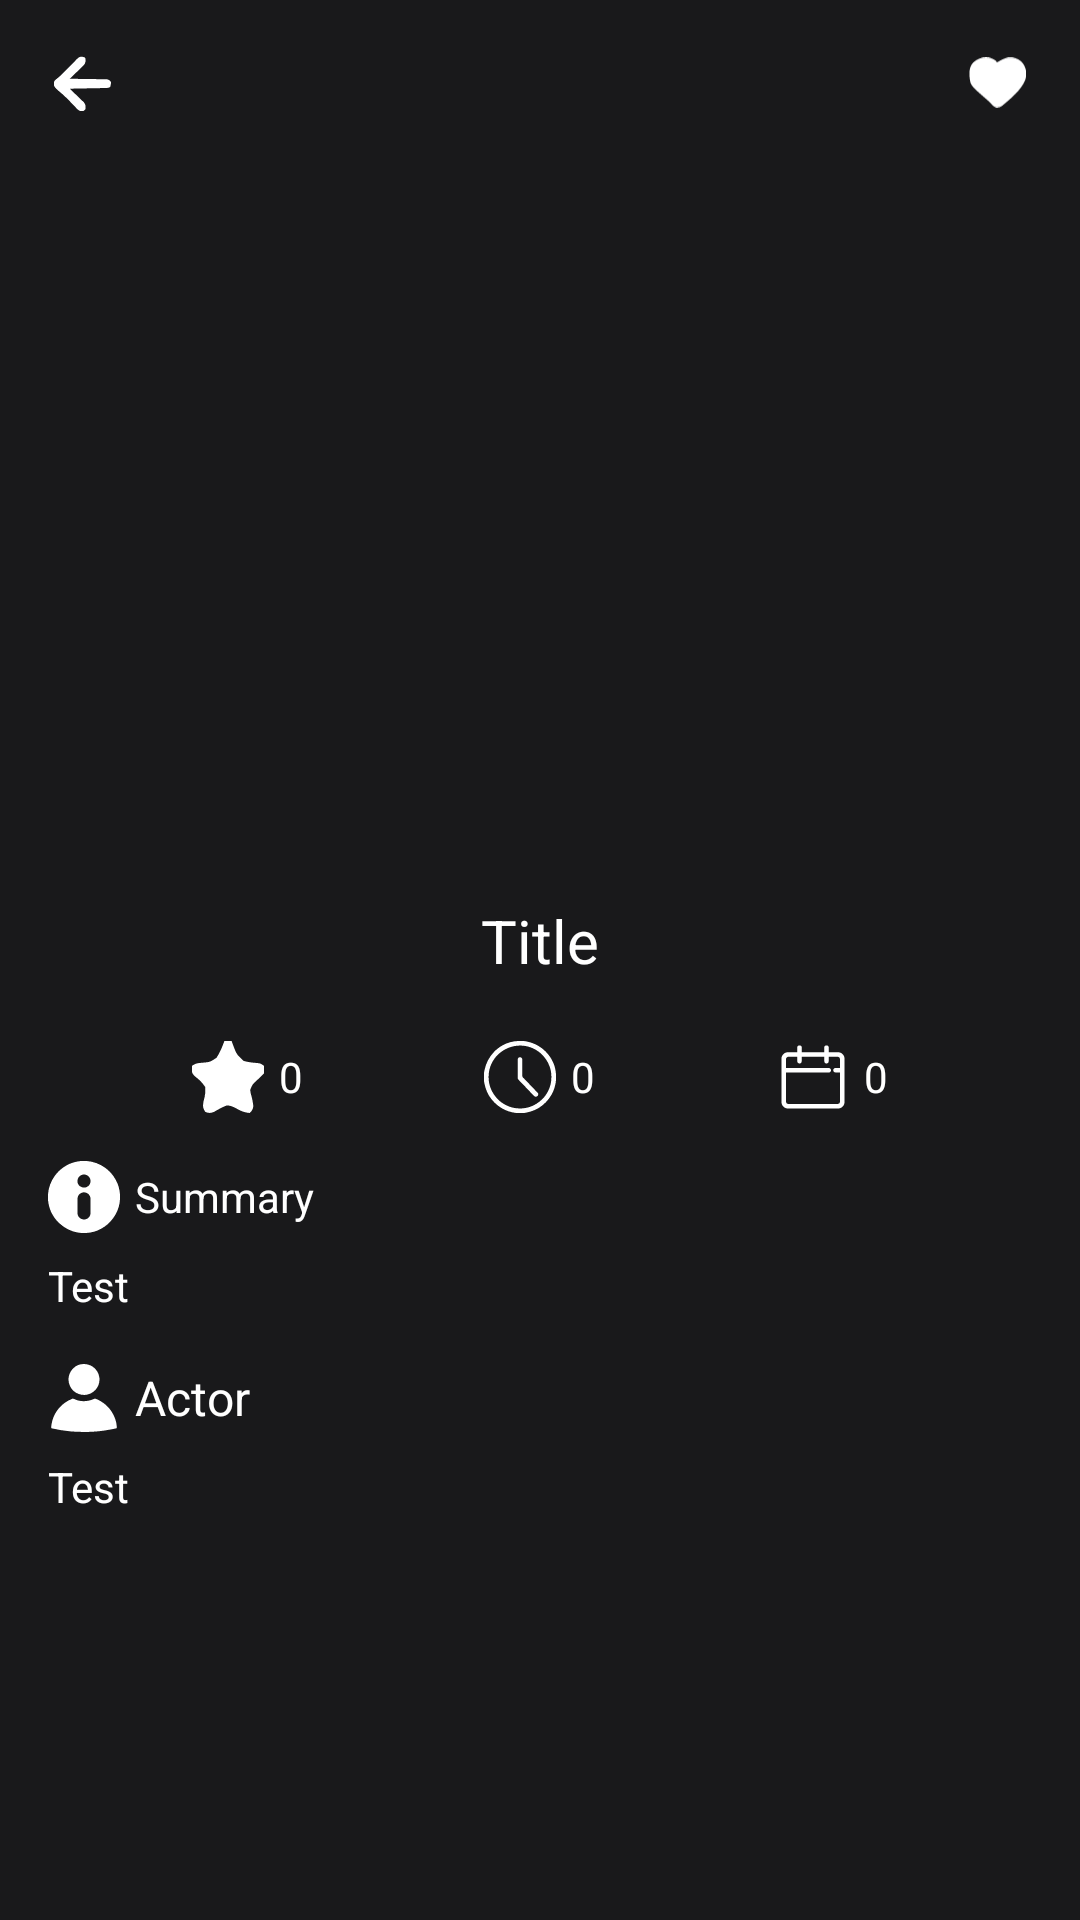

Screen size 1080px x 1920px. Icon name, then its center in pixels as point (x, y):
back: point (82, 83)
fav: point (997, 82)
